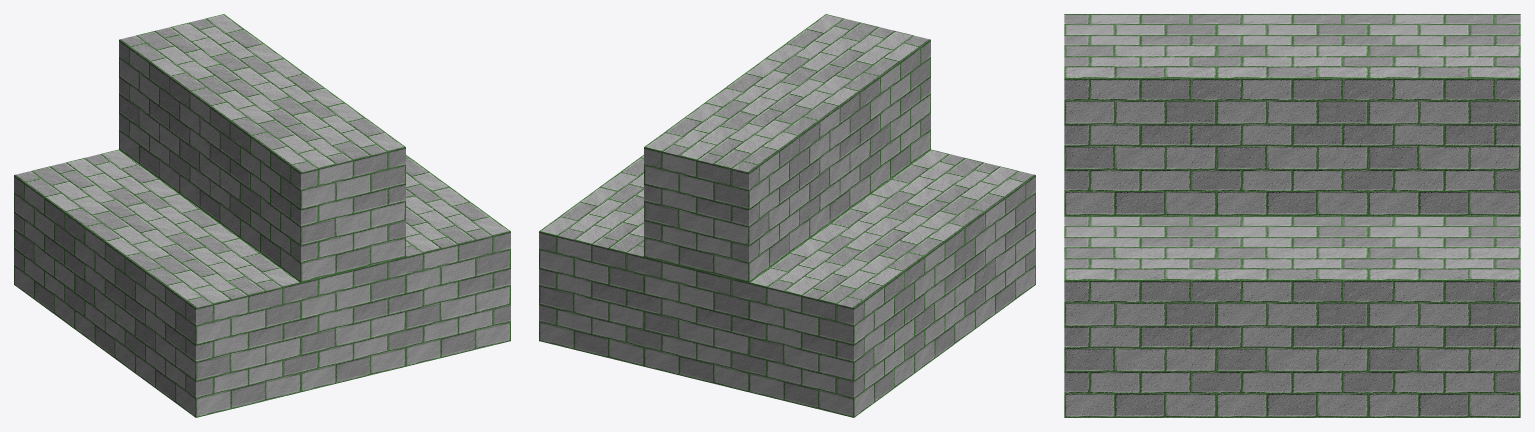
The model's file is T-Platform.fbx.
The picture shows the model from 3 angles, left to right: view 1: azimuth 30°, elevation 25°; view 2: azimuth 150°, elevation 25°; view 3: azimuth 270°, elevation 25°; orthographic projection. The views are drawn at different scales.
Visible parts, largest first — view 1: Cube.000; view 2: Cube.000; view 3: Cube.000.
Part boxes in pixels (<box>): Cube.000: <box>14,14,510,417</box>; Cube.000: <box>539,14,1035,417</box>; Cube.000: <box>1064,14,1520,417</box>.
Size of the model in its own units: 600 by 400 by 600.
